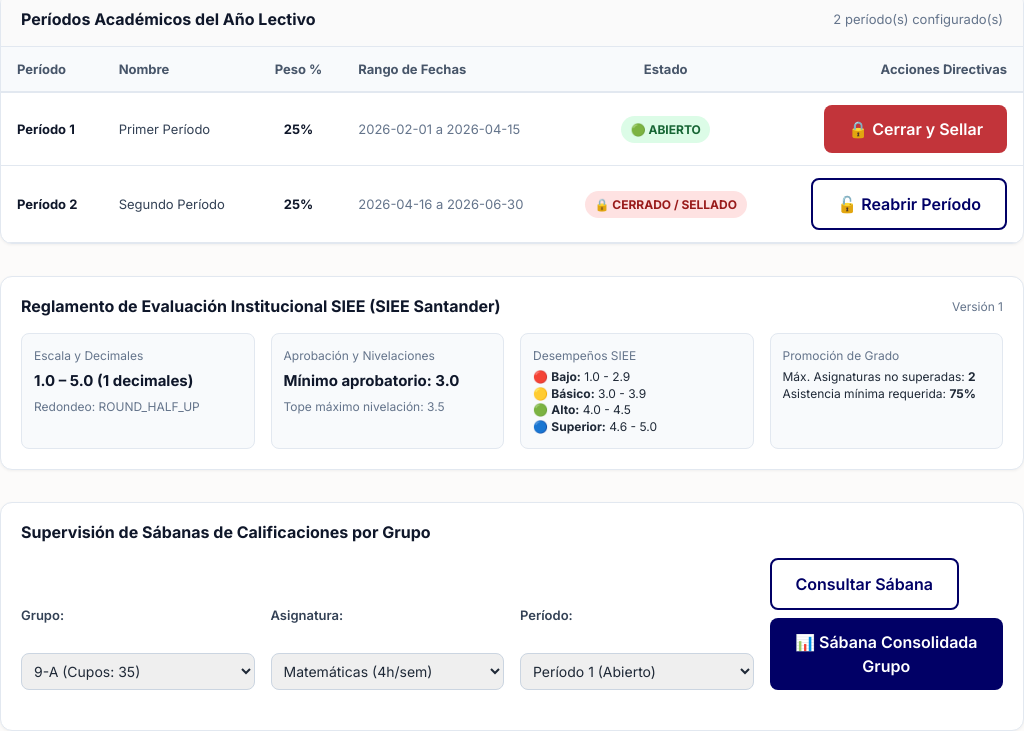
DirectiveEvaluationManagementView (Phase 16D) › 4. Allows institutional inspection of group period sheets
The width and height of the screenshot is (1024, 731).
(page scrolled)
Click the button "Consultar Sábana" at [864, 584], box [770,558,959,610]
(page scrolled)
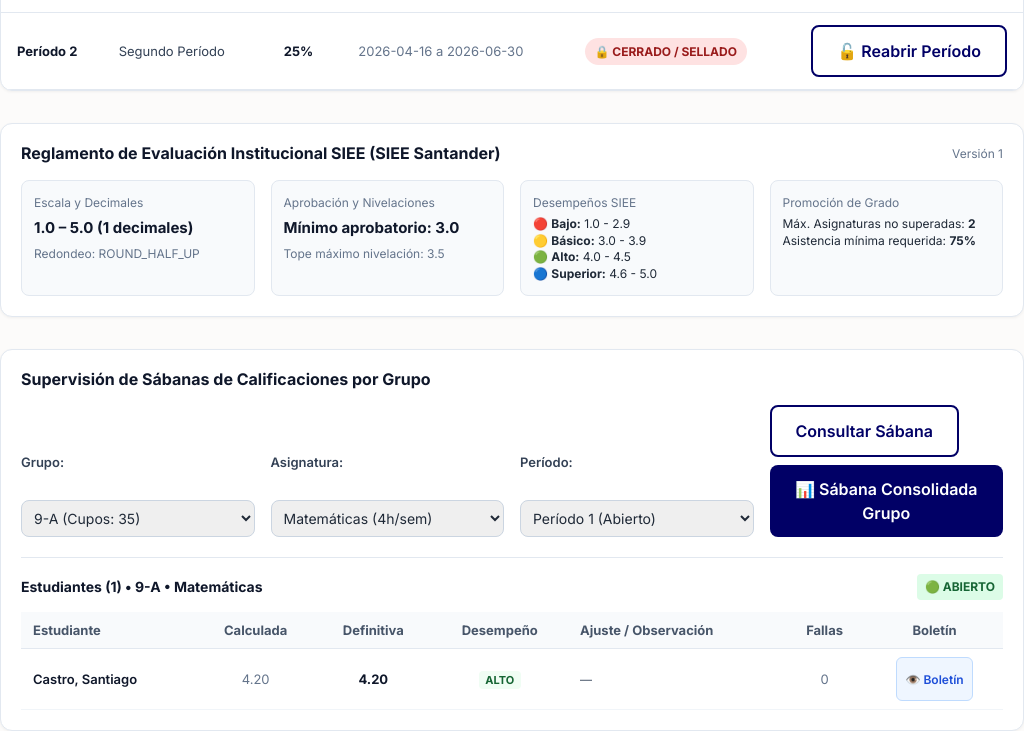
expect the text "Castro, Santiago" is shown: met, box [21,649,196,710]
